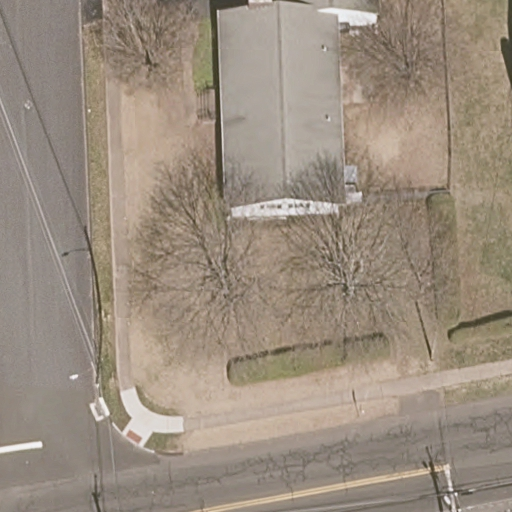DT: (69, 355, 113, 404), (440, 462, 464, 512)
